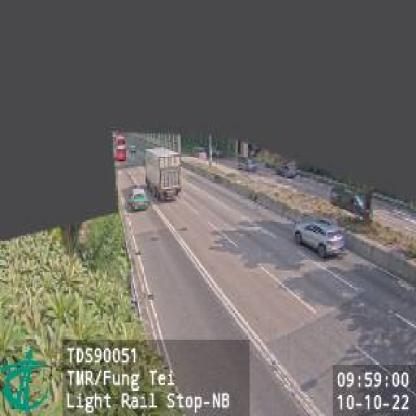Bus: (114, 135, 126, 164)
Car: (295, 217, 346, 258), (127, 186, 148, 212)
Truck: (145, 145, 182, 201)
